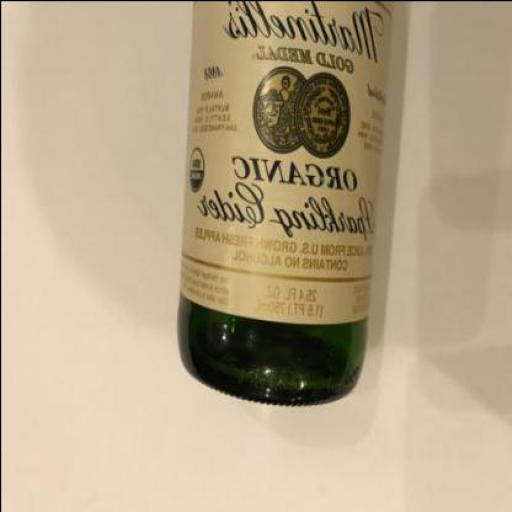glass: (176, 2, 391, 408)
